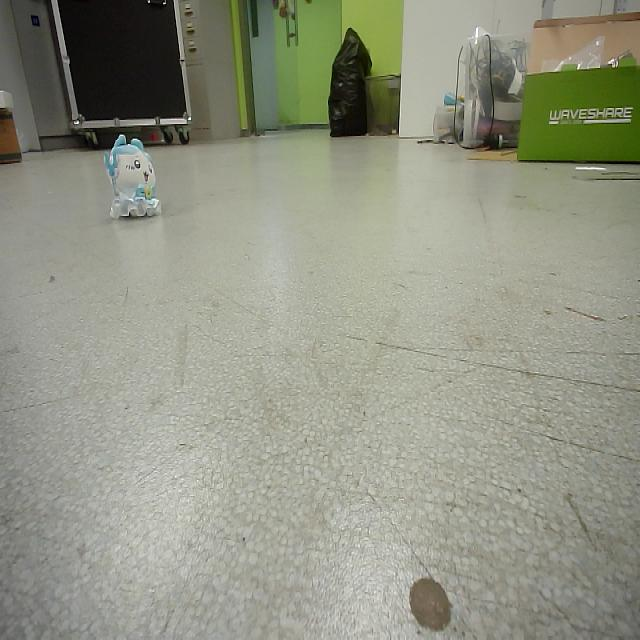xiaoba: (103, 132, 167, 221)
